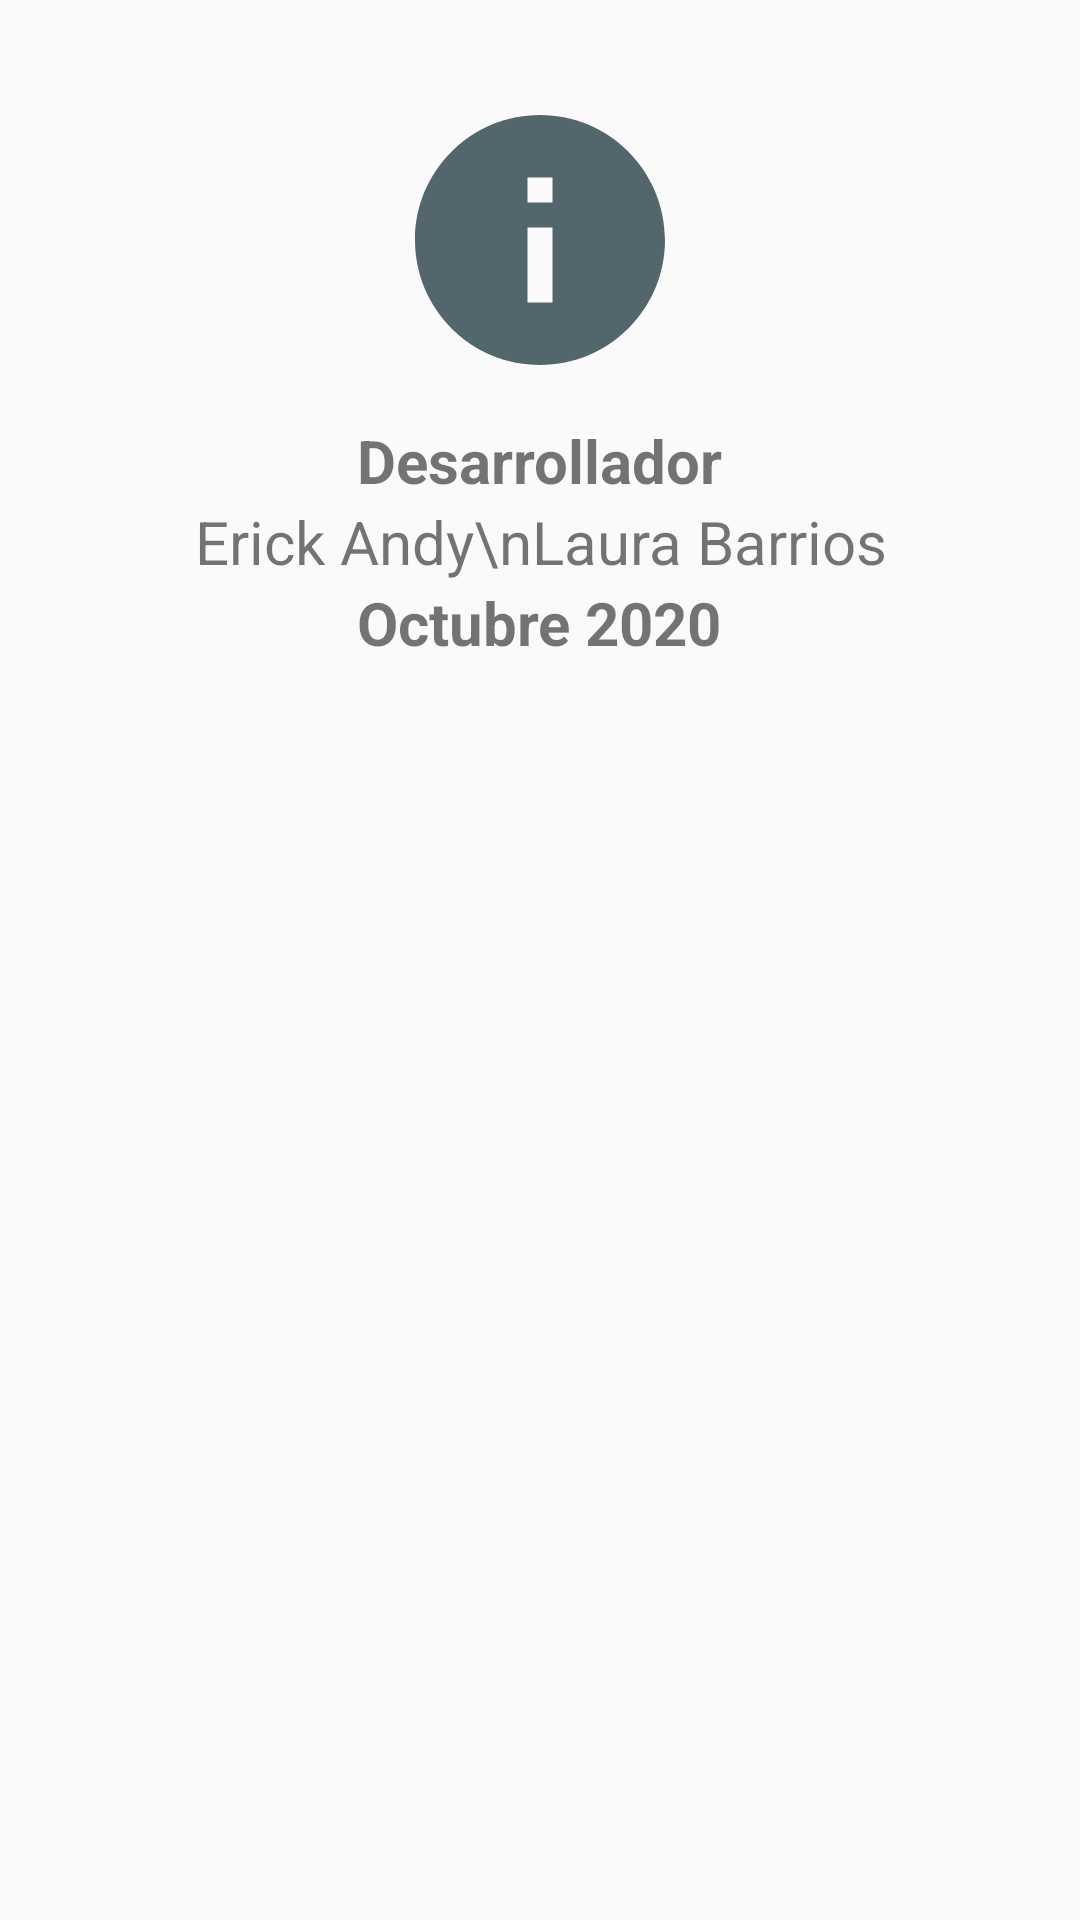

Icon bounding boxes for this 1080px×1920px phone screenshot, format {"left": x1, "top": y1, "right": x2, "bottom": y2}:
information: {"left": 415, "top": 115, "right": 665, "bottom": 365}
